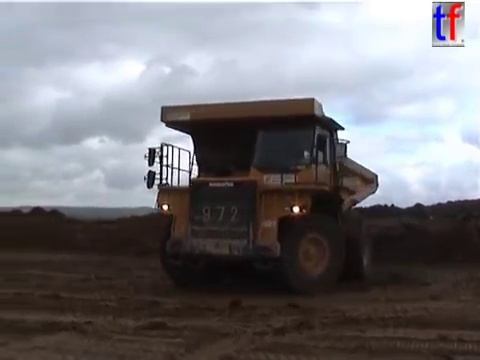truck: (141, 95, 383, 299)
